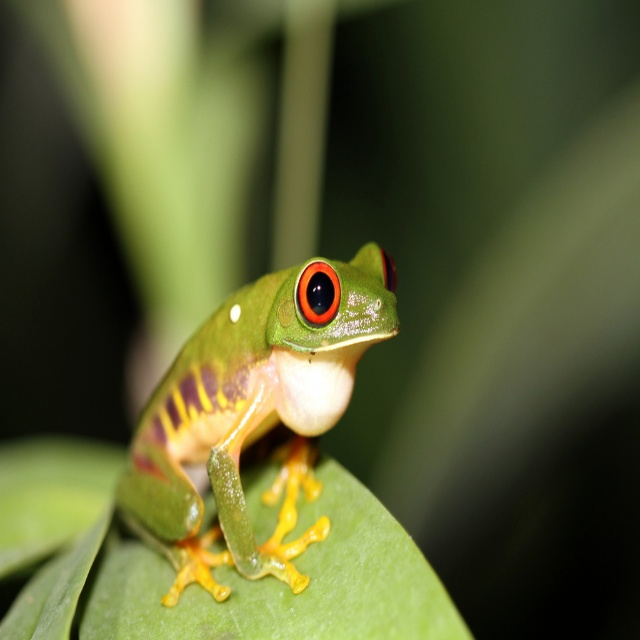Frog: (110, 236, 402, 610)
